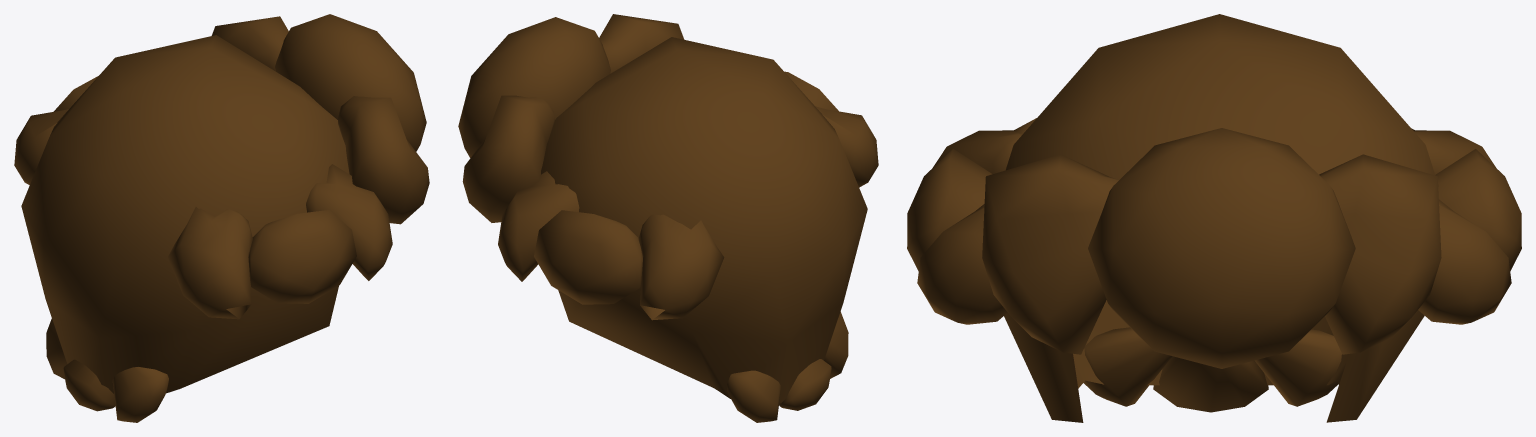
The model's file is ZachHair.glb.
3 views of the same model, side by side, from view 1: azimuth 30°, elevation 25°; view 2: azimuth 150°, elevation 25°; view 3: azimuth 270°, elevation 25° (orthographic). The views are drawn at different scales.
Visible parts, largest first — view 1: ZachHair; view 2: ZachHair; view 3: ZachHair.
Part boxes in pixels (x1,y1,x2,y2): ZachHair: [14, 14, 429, 422]; ZachHair: [458, 14, 878, 422]; ZachHair: [907, 14, 1521, 422].
Bounding box in the file's own units: 7.47 × 6.36 × 7.89.
